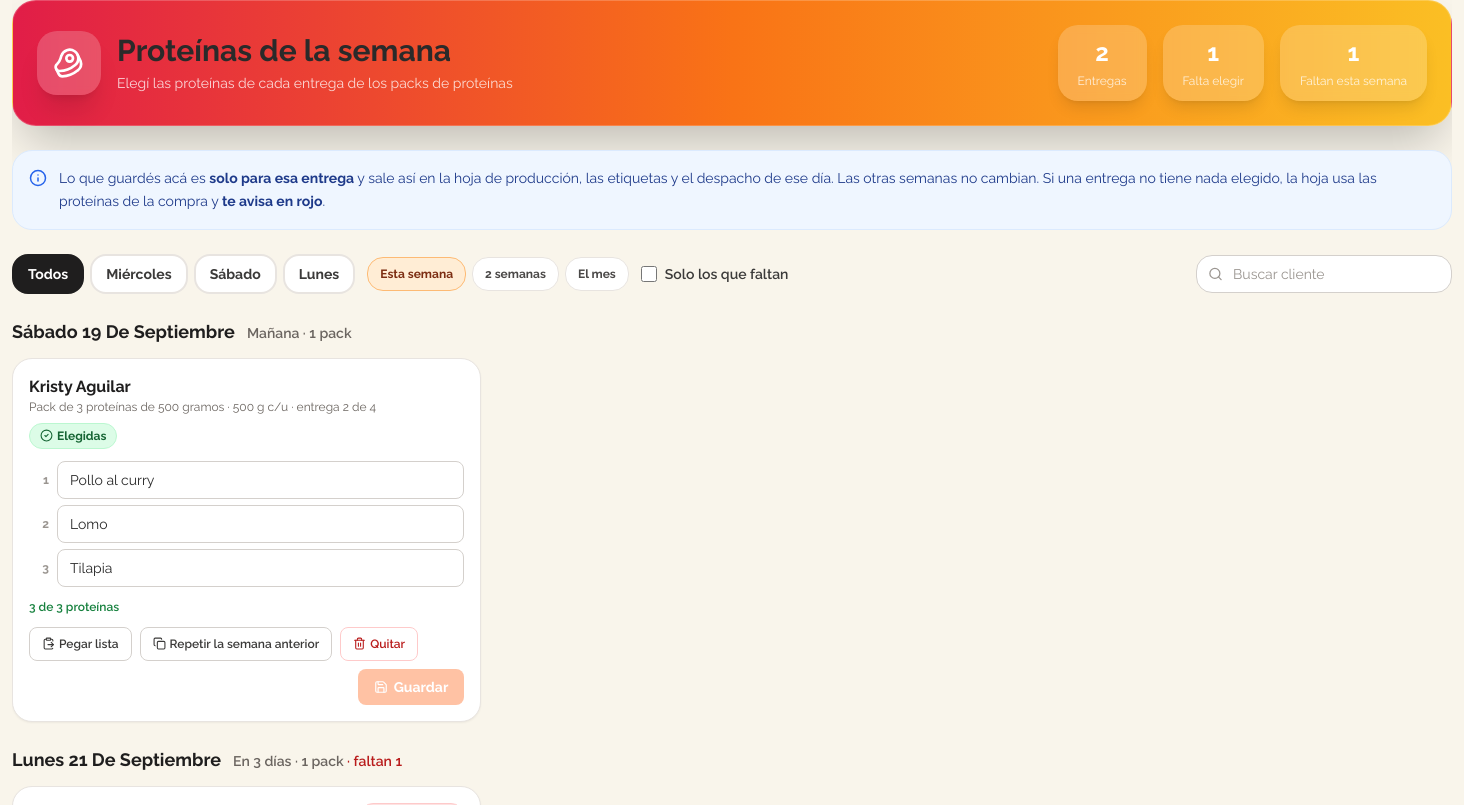
Proteínas de la semana › "solo los que faltan" esconde las que ya están elegidas
Click the checkbox labelled "Solo los que faltan" at (649, 274), box [641,266,657,282]
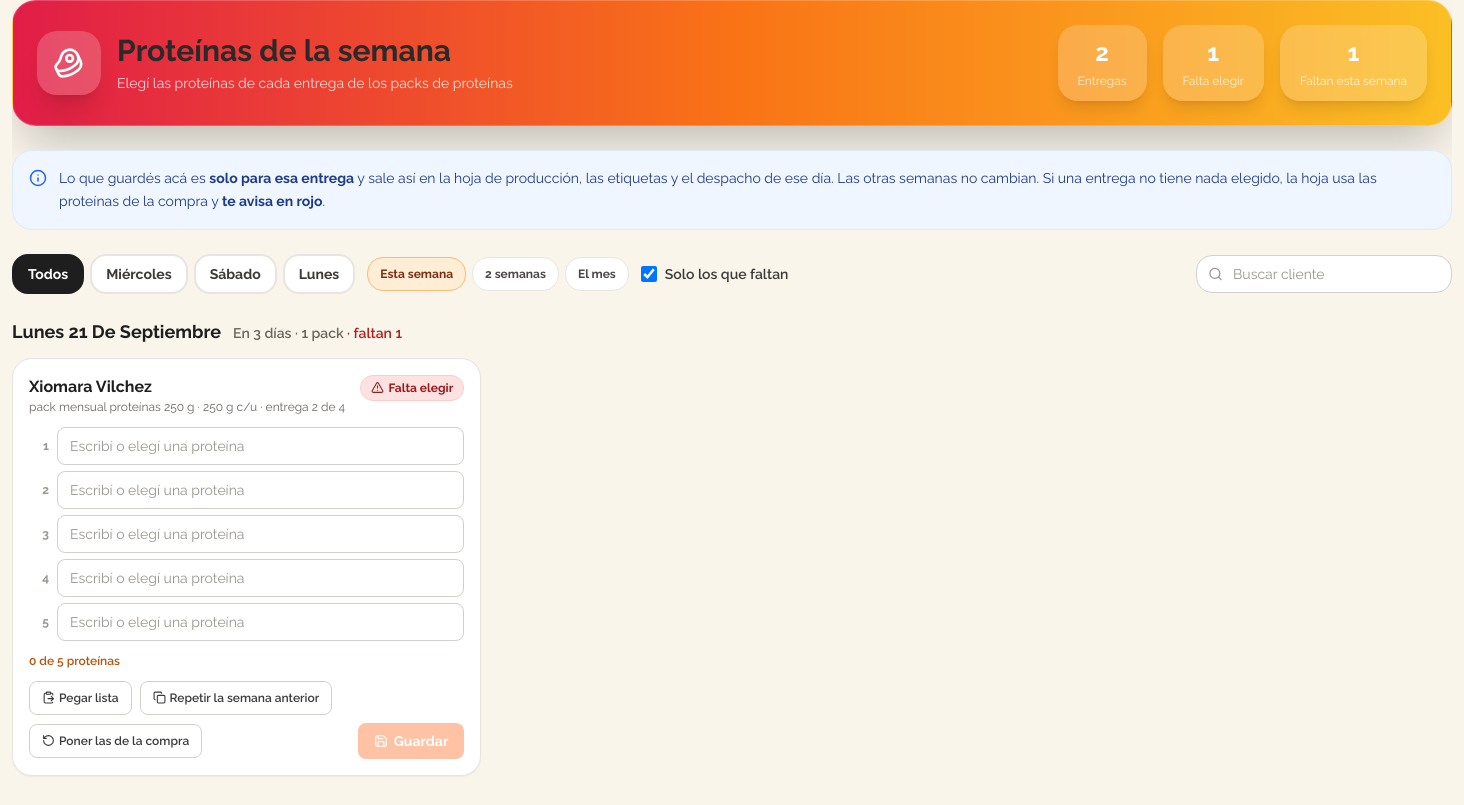
Check: the heading "Kristy Aguilar" is gone
